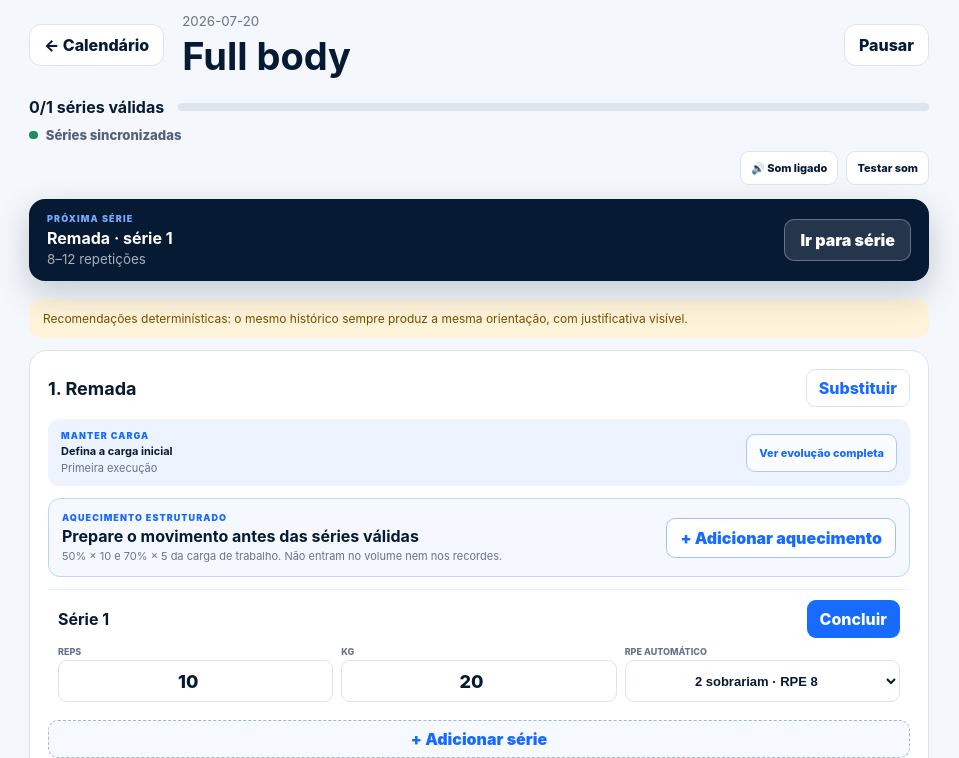
Test: percurso principal do treino › destaca um novo recorde pessoal no treino real
Click the button "Concluir" at (853, 619), box x1=807 y1=600 x2=900 y2=638
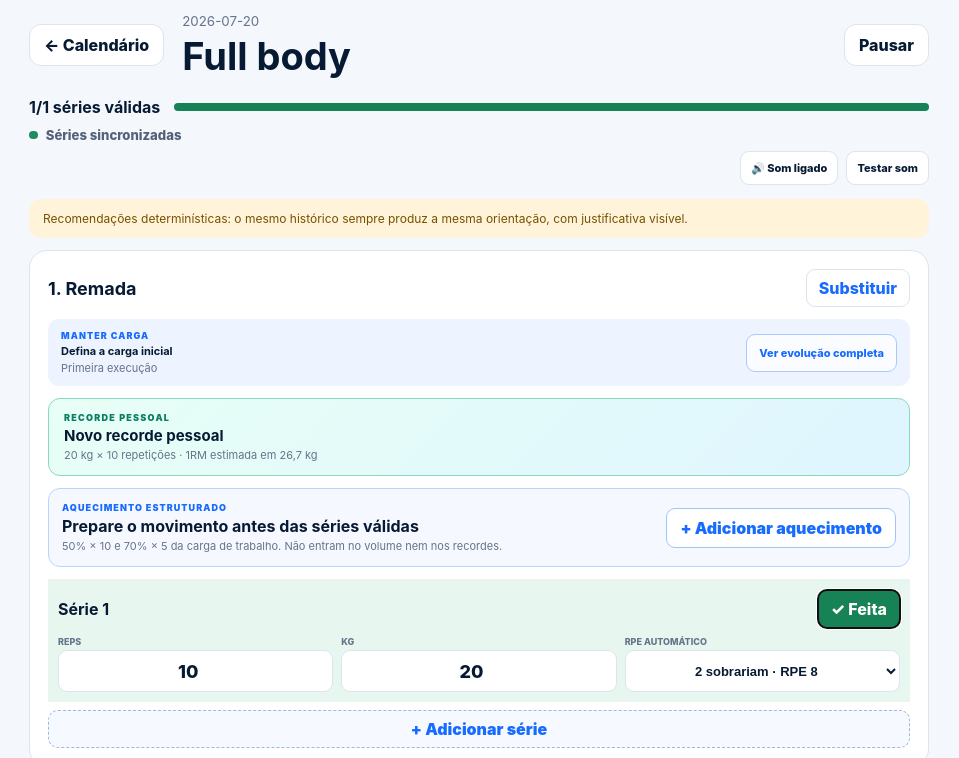
Result: the text "RECORDE PESSOAL" is shown at x1=64 y1=412 x2=170 y2=423
Result: the text "20 kg × 10 repetições · 1RM estimada em 26,7 kg" is shown at x1=64 y1=448 x2=318 y2=462
